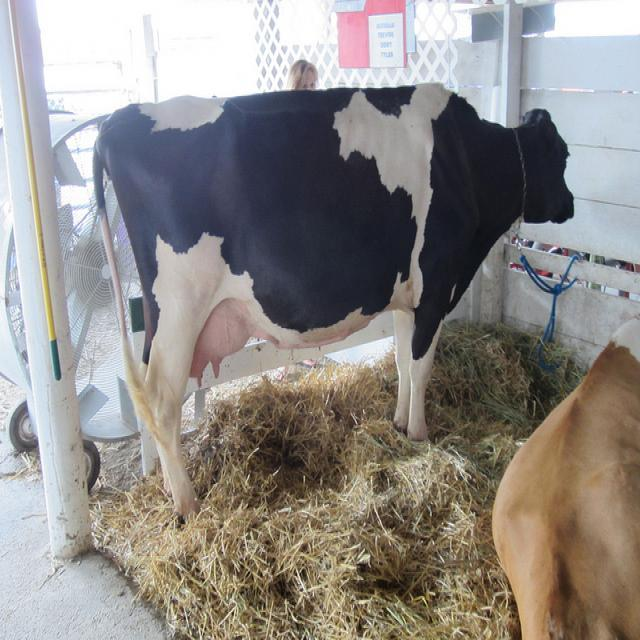cow: (90, 81, 575, 528), (489, 335, 638, 629)
